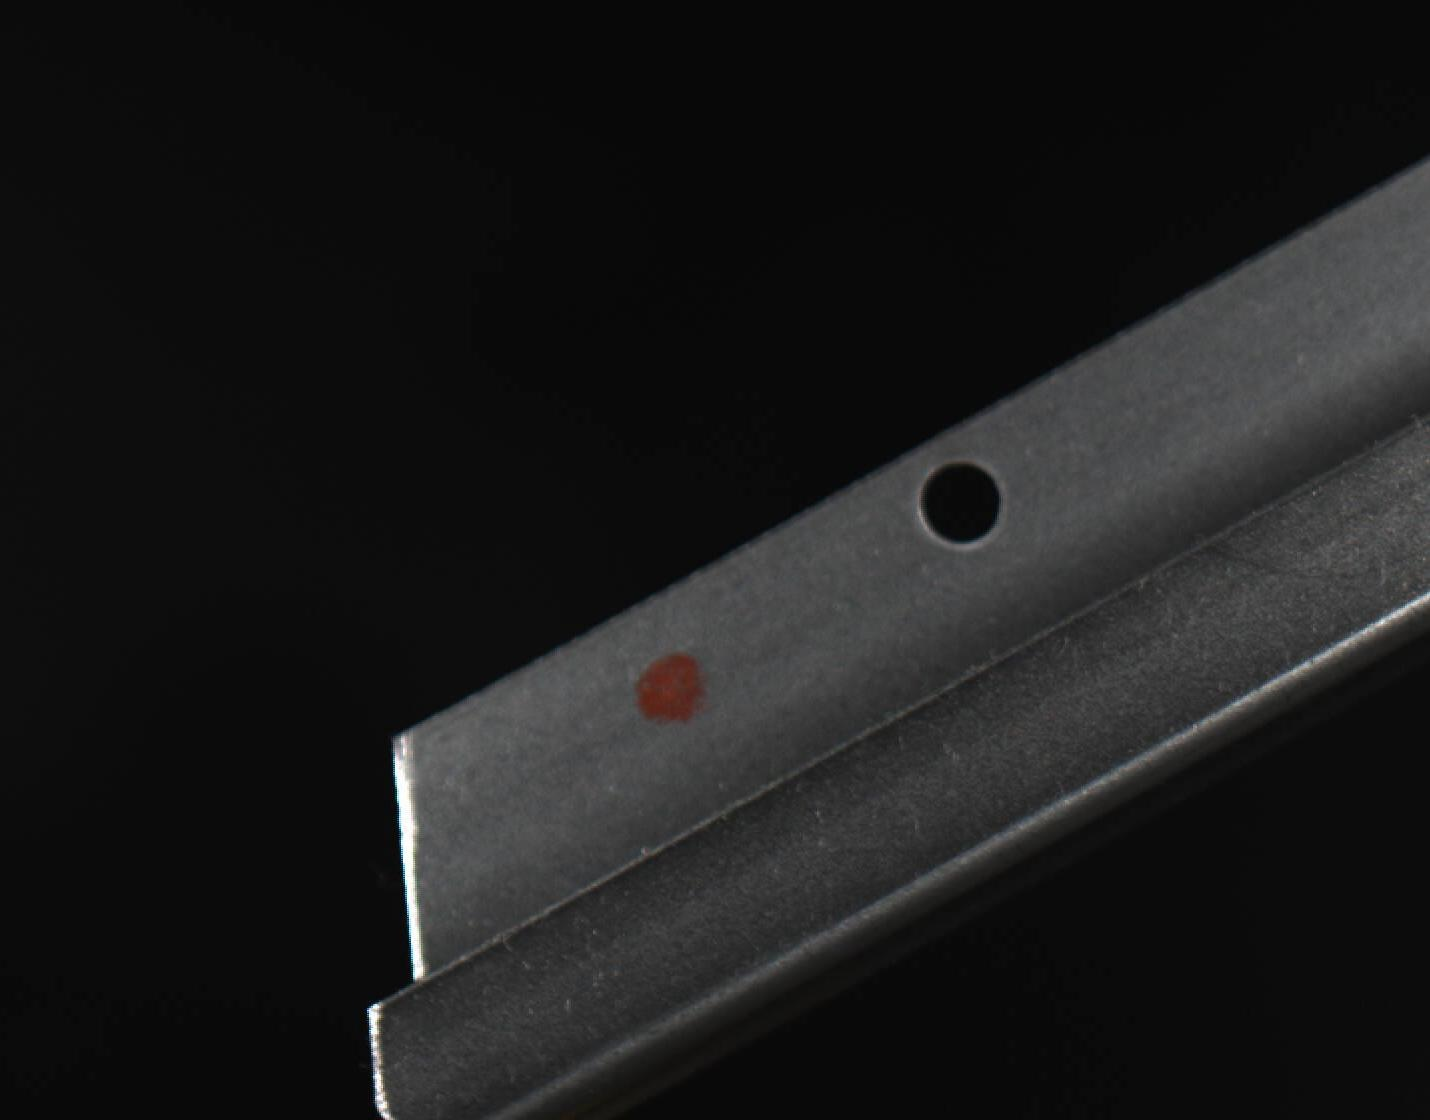cut: (339, 644, 770, 1113)
holes: (917, 458, 1004, 547)
